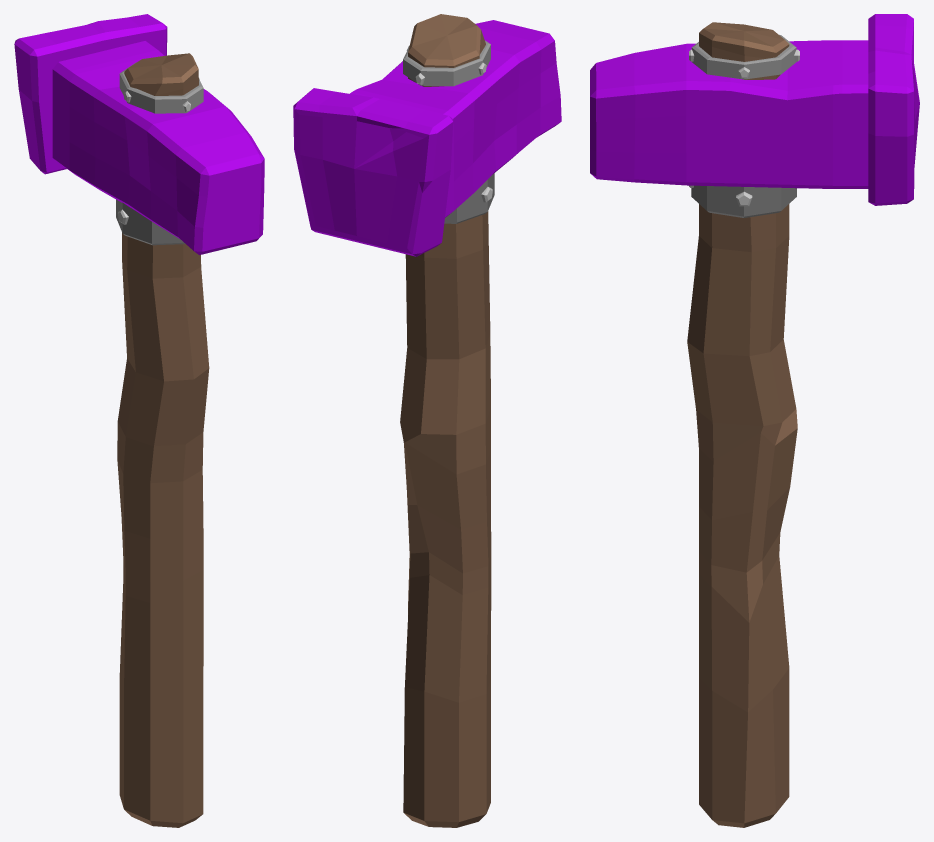
File: Hammer3_Purple.fbx
The picture shows the model from 3 angles, left to right: view 1: azimuth 30°, elevation 25°; view 2: azimuth 150°, elevation 25°; view 3: azimuth 270°, elevation 25°; orthographic projection. The views are drawn at different scales.
Visible parts, largest first — view 1: Hammer3_Purple; view 2: Hammer3_Purple; view 3: Hammer3_Purple.
Part boxes in pixels (x1,y1,x2,y2): Hammer3_Purple: [14, 14, 264, 827]; Hammer3_Purple: [293, 14, 561, 827]; Hammer3_Purple: [590, 14, 919, 827].
Bounding box in the file's own units: 10.81 × 56.86 × 21.55.
